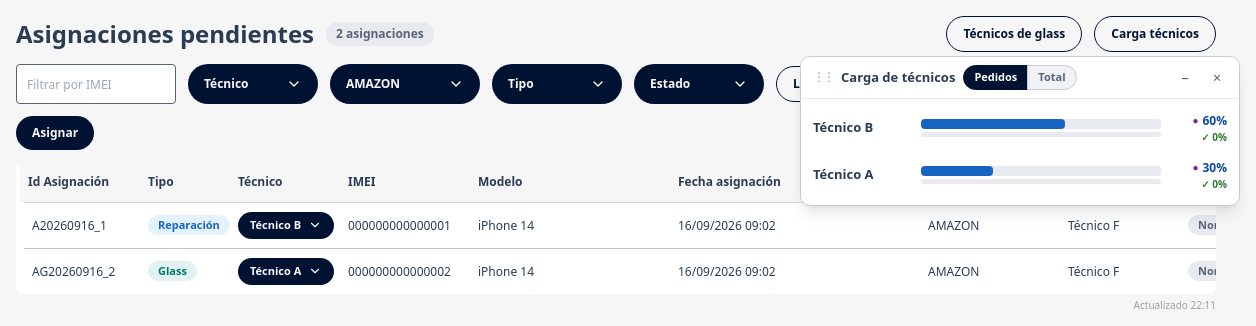
Test: AsignacionesPage · pulsar un técnico en el panel de carga (0.9.20) › con la vista abierta: la tabla queda filtrada por ese técnico en solitario y el panel sigue
Expected: the text "AG20260916_2" is shown, top-left (20, 248), bottom-right (140, 294)
Type "00000000000000" into the field labelled "Filtrar por IMEI".
click(96, 84); type("00000000000000")  # box top-left (16, 64), bottom-right (176, 104)
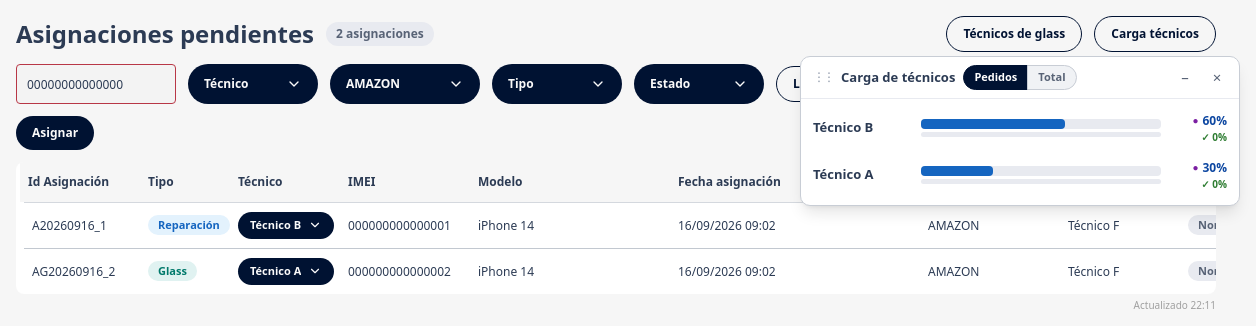
Click the button "Técnico B ● 60% ✓ 0%".
click(1020, 128)  # box top-left (809, 108), bottom-right (1231, 148)
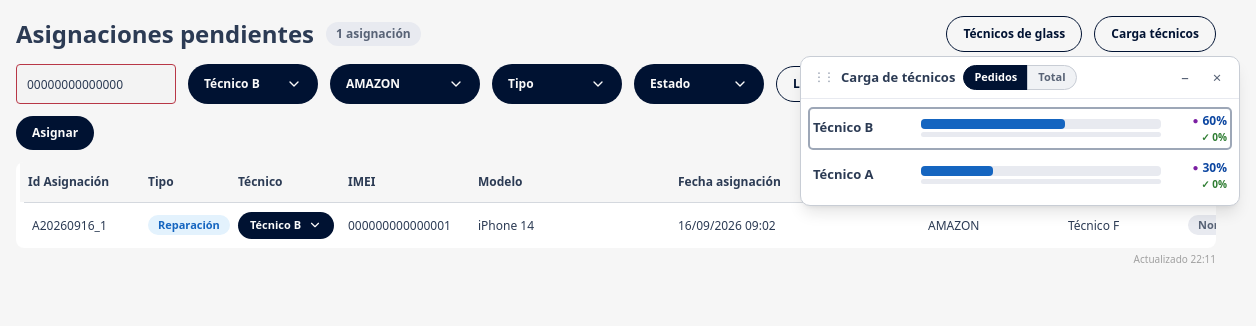
Expected: the text "1 asignación" is shown, top-left (326, 22), bottom-right (421, 46)
Expected: the text "AG20260916_2" is gone
Expected: the button "Técnico B" is shown, top-left (188, 64), bottom-right (318, 104)
